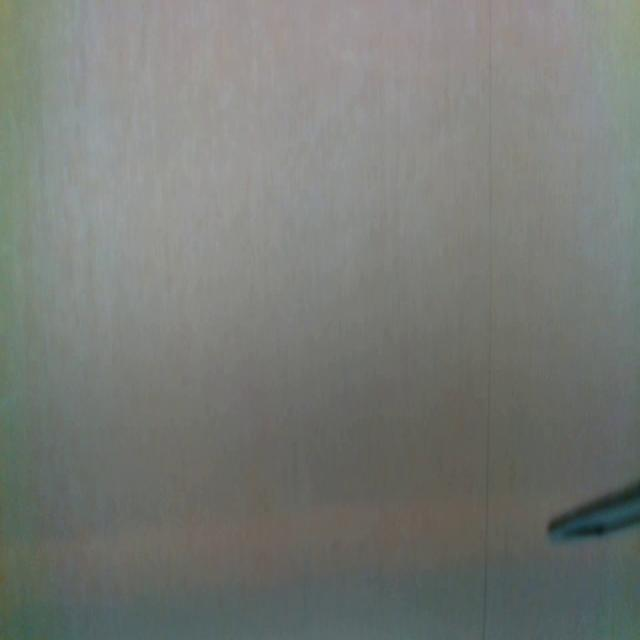color bleeding: (2, 476, 545, 601)
